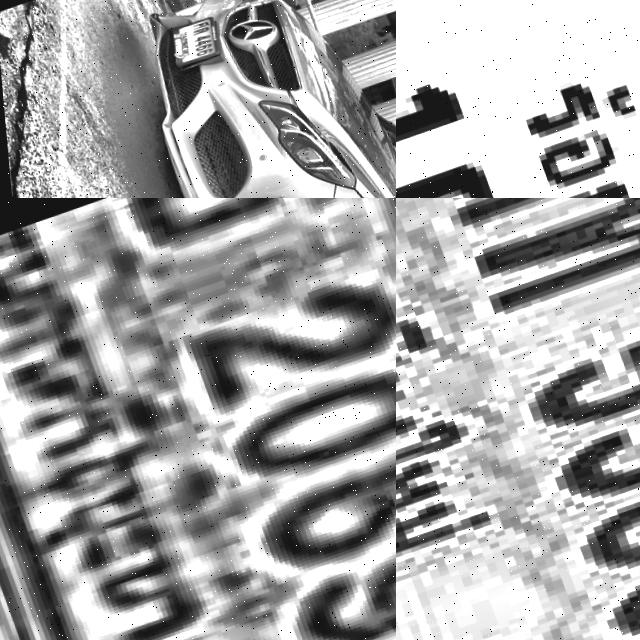license-plate: (0, 198, 396, 640), (396, 198, 640, 640), (396, 0, 640, 198), (157, 14, 230, 78)
